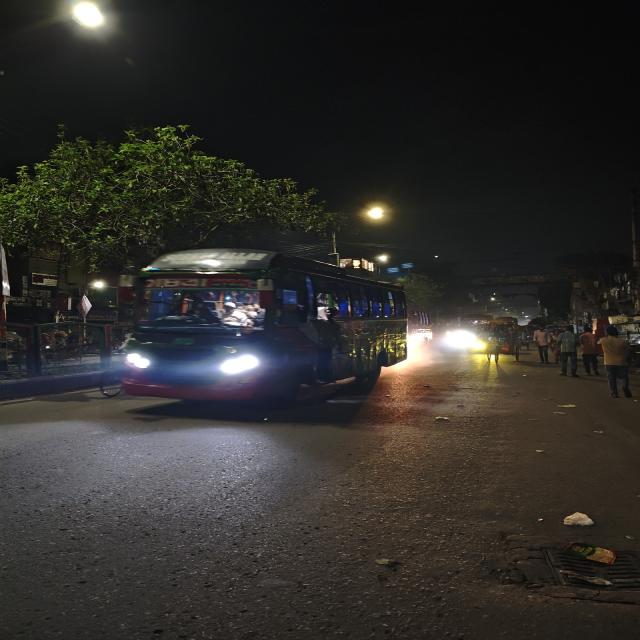bus: (108, 224, 408, 424), (448, 314, 493, 352)
pedestrian: (599, 327, 640, 402), (554, 322, 582, 378), (577, 324, 603, 378), (532, 326, 553, 364)
rickshaw: (483, 315, 524, 362)
